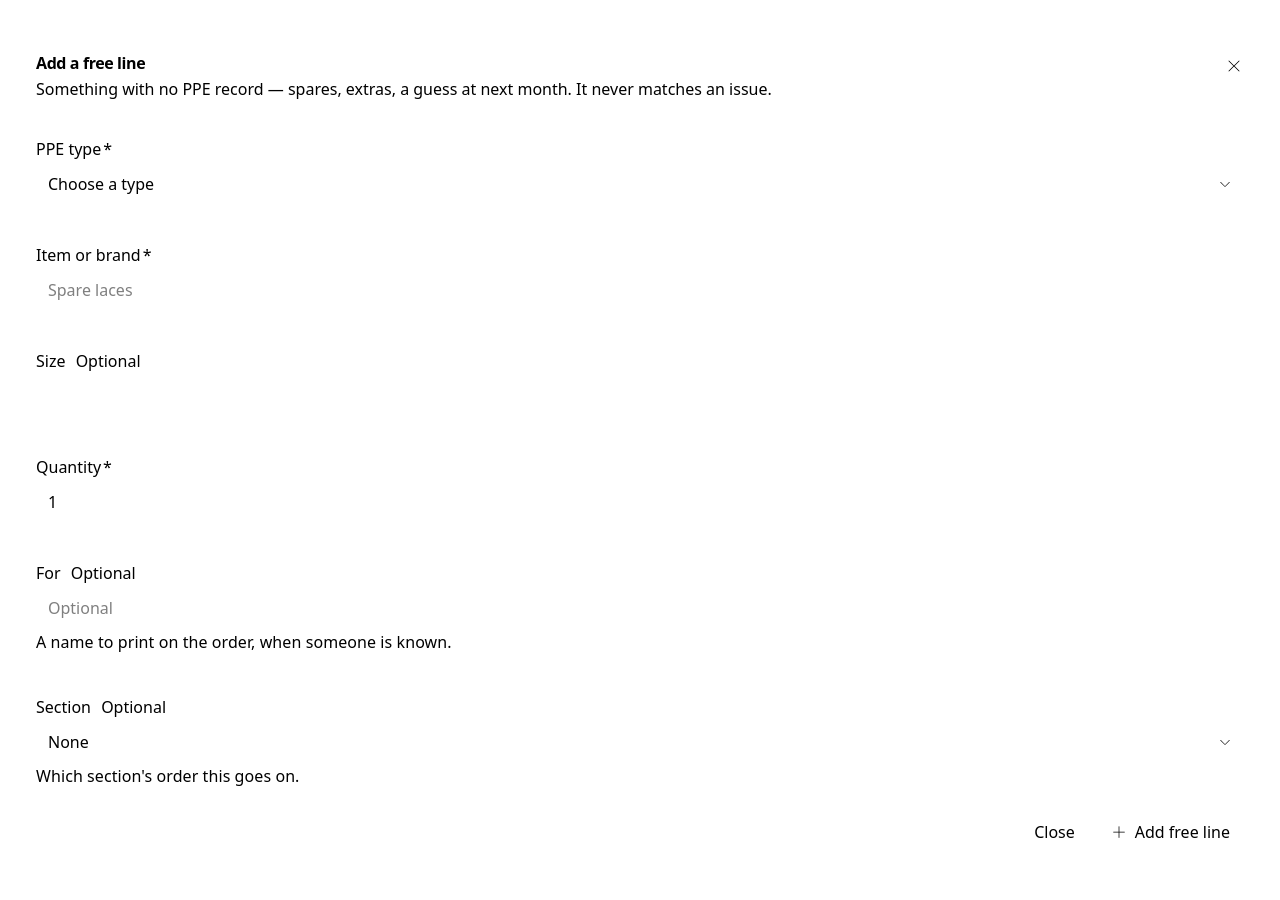
Test: FreeLineDialog › asks for the type and the item before saving
The image size is (1280, 900).
What coordinates should you click on to do the following:
click the button "Add free line"
I would click on:
 (1170, 832)
Its box is [1097,814,1244,850].
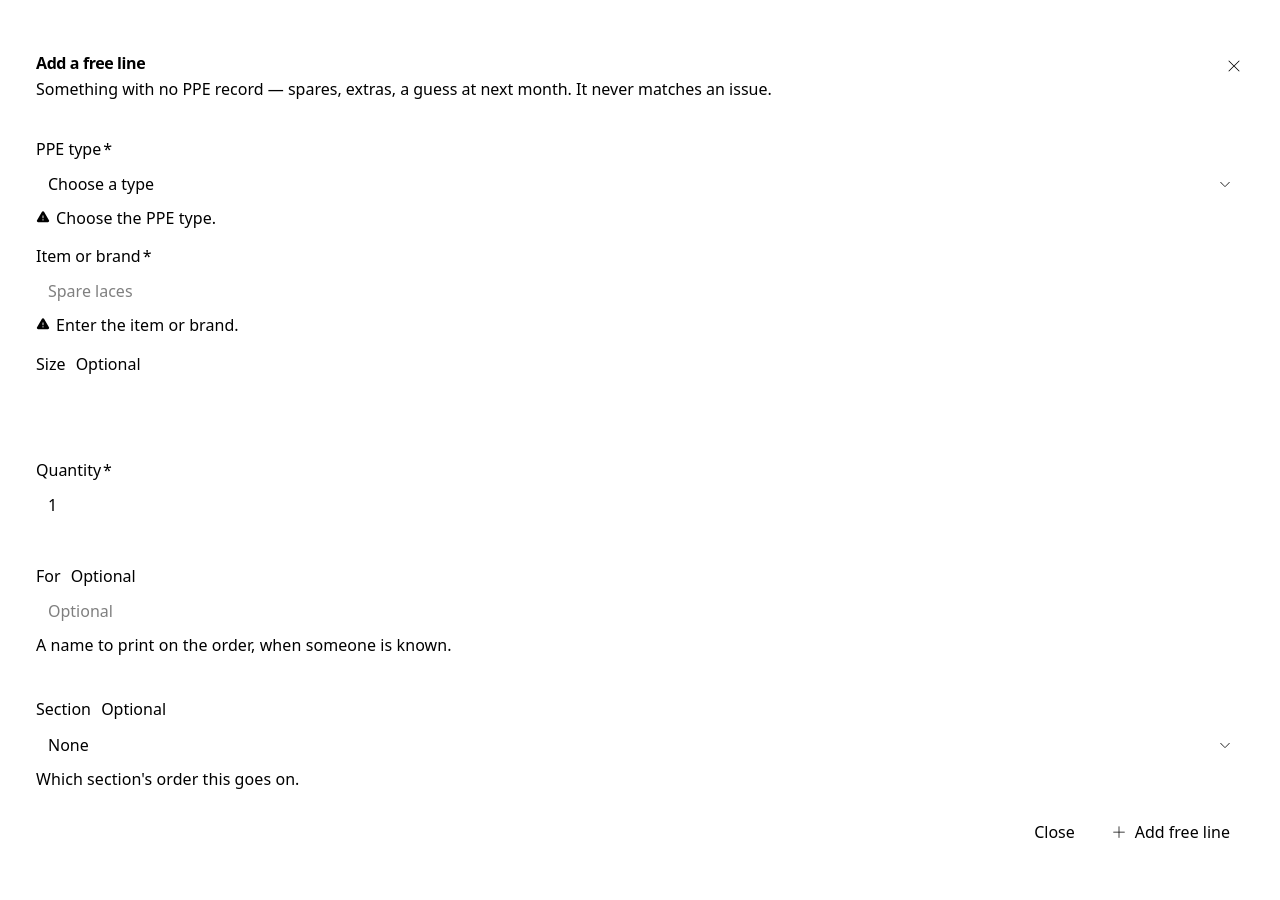
Check: the text "Choose the PPE type." is shown, box [56,208,216,229]
Check: the text "Enter the item or brand." is shown, box [56,315,239,337]
